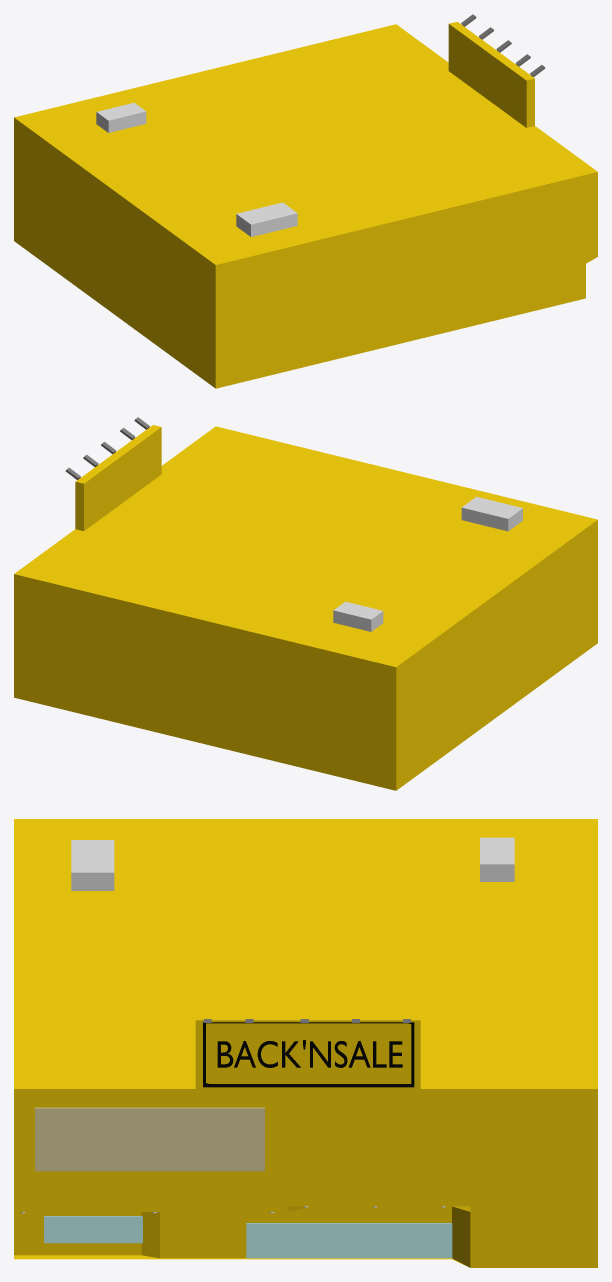
The model's file is Building-2Marketlighttest.glb.
3 renders of one model, top to bottom at view 1: azimuth 30°, elevation 25°; view 2: azimuth 150°, elevation 25°; view 3: azimuth 270°, elevation 25°, orthographic. The views are drawn at different scales.
Visible parts, largest first — view 1: Cube; view 2: Cube; view 3: Cube, Text.
Part boxes in pixels (bbox=[...]): Cube: bbox=[14, 14, 597, 388]; Cube: bbox=[14, 417, 597, 790]; Cube: bbox=[14, 819, 597, 1267]; Text: bbox=[217, 1040, 402, 1067].
Bounding box in the file's own units: 6.69 × 2.88 × 5.92.
